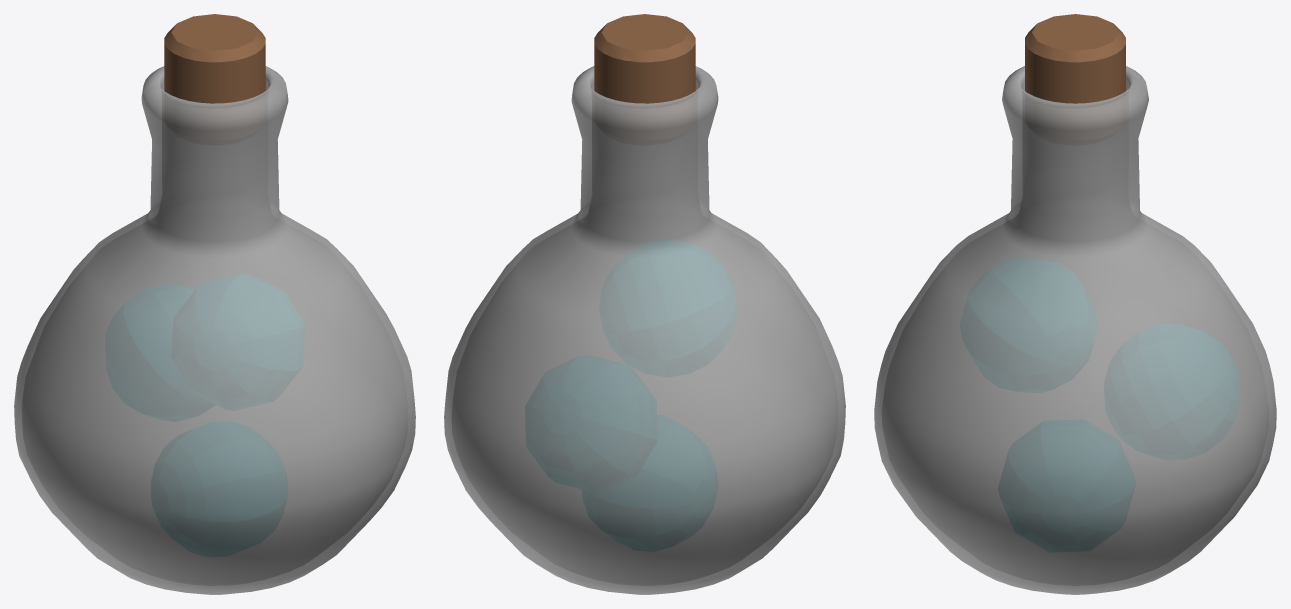
Rendered from eyeball bottle.fbx.
3 views of the same model, side by side, from view 1: azimuth 30°, elevation 25°; view 2: azimuth 150°, elevation 25°; view 3: azimuth 270°, elevation 25° (orthographic).
Parts seen in each view (by area): view 1: bottle1; view 2: bottle1; view 3: bottle1.
Boxes of the visible parts, left/top/right/bottom form: bottle1: left=14, top=14, right=415, bottom=594; bottle1: left=444, top=14, right=845, bottom=594; bottle1: left=874, top=14, right=1276, bottom=594.
Bounding box in the file's own units: 0.0579 × 0.0861 × 0.0579.
